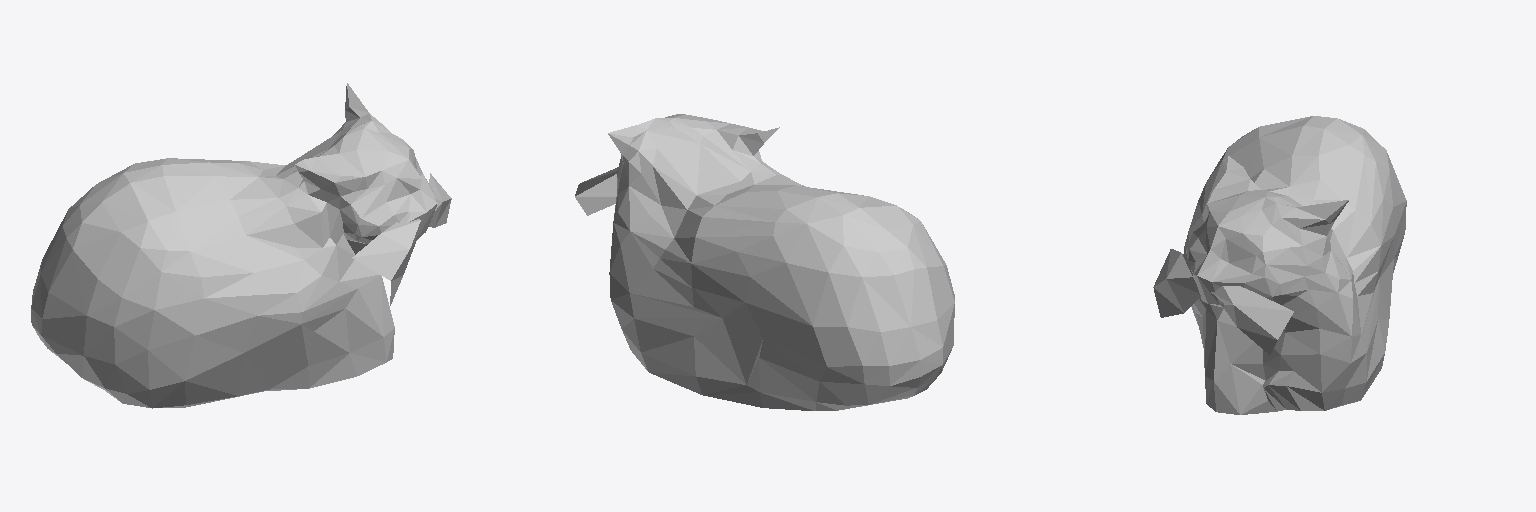
File: dingus.obj
3 views of the same model, side by side, from view 1: azimuth 30°, elevation 25°; view 2: azimuth 150°, elevation 25°; view 3: azimuth 270°, elevation 25° (orthographic).
Visible parts, largest first — view 1: dingus_dingus_0, dingus_whiskers_0; view 2: dingus_dingus_0, dingus_whiskers_0; view 3: dingus_dingus_0, dingus_whiskers_0.
Part boxes in pixels (bbox=[...]): dingus_dingus_0: bbox=[31, 83, 437, 408]; dingus_whiskers_0: bbox=[352, 173, 451, 305]; dingus_dingus_0: bbox=[608, 114, 954, 410]; dingus_whiskers_0: bbox=[575, 167, 618, 215]; dingus_dingus_0: bbox=[1184, 116, 1406, 414]; dingus_whiskers_0: bbox=[1153, 249, 1293, 354].
Bounding box in the file's own units: 8.97 × 5.19 × 5.06.